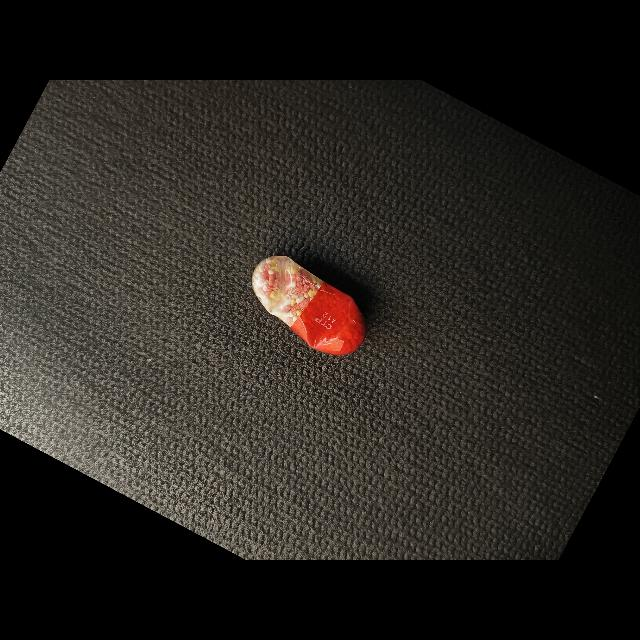Defective Capsule: (252, 256, 366, 355)
